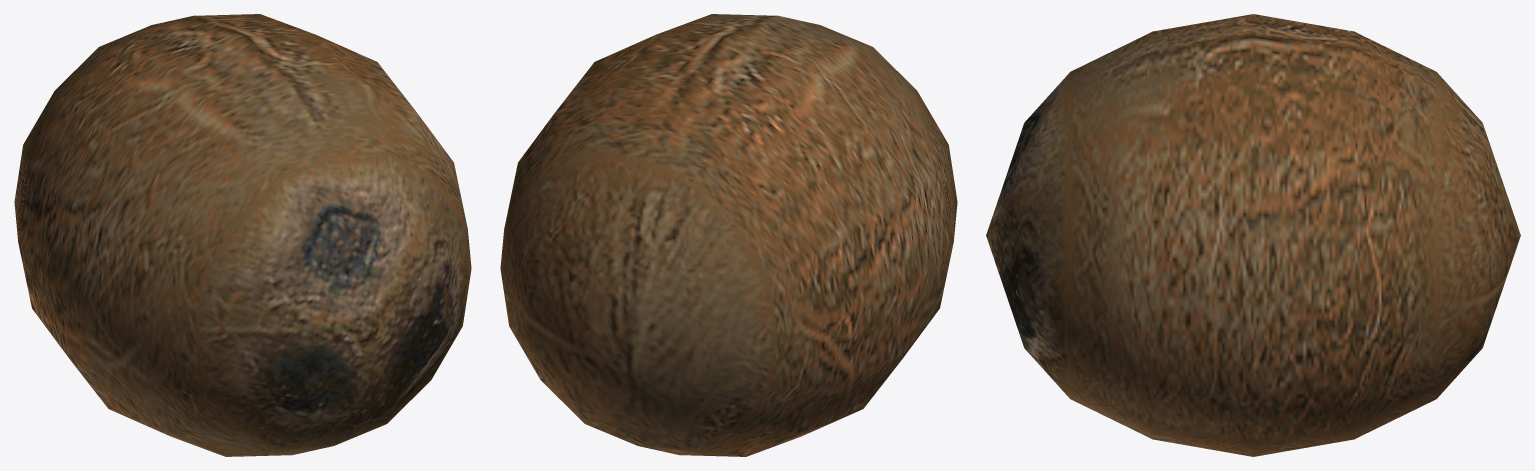
File: Coconut - 224 tris.obj
3 views of the same model, side by side, from view 1: azimuth 30°, elevation 25°; view 2: azimuth 150°, elevation 25°; view 3: azimuth 270°, elevation 25° (orthographic).
Visible parts, largest first — view 1: Coconut; view 2: Coconut; view 3: Coconut.
Part boxes in pixels (x1=…): Coconut: x1=14, y1=14, x2=471, y2=456; Coconut: x1=500, y1=14, x2=957, y2=456; Coconut: x1=986, y1=14, x2=1520, y2=456.
Bounding box in the file's own units: 5.72 × 5.72 × 6.87.
1 material, 1 textured.
